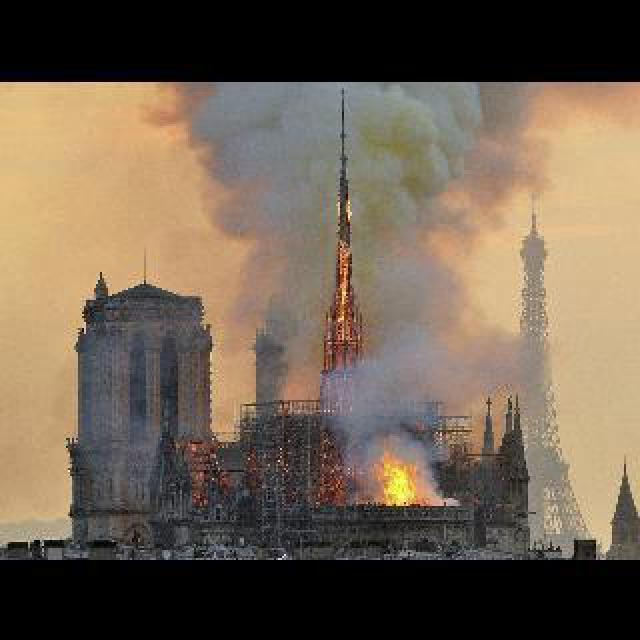Fire: (376, 442, 430, 510)
Smoke: (152, 84, 544, 438)
